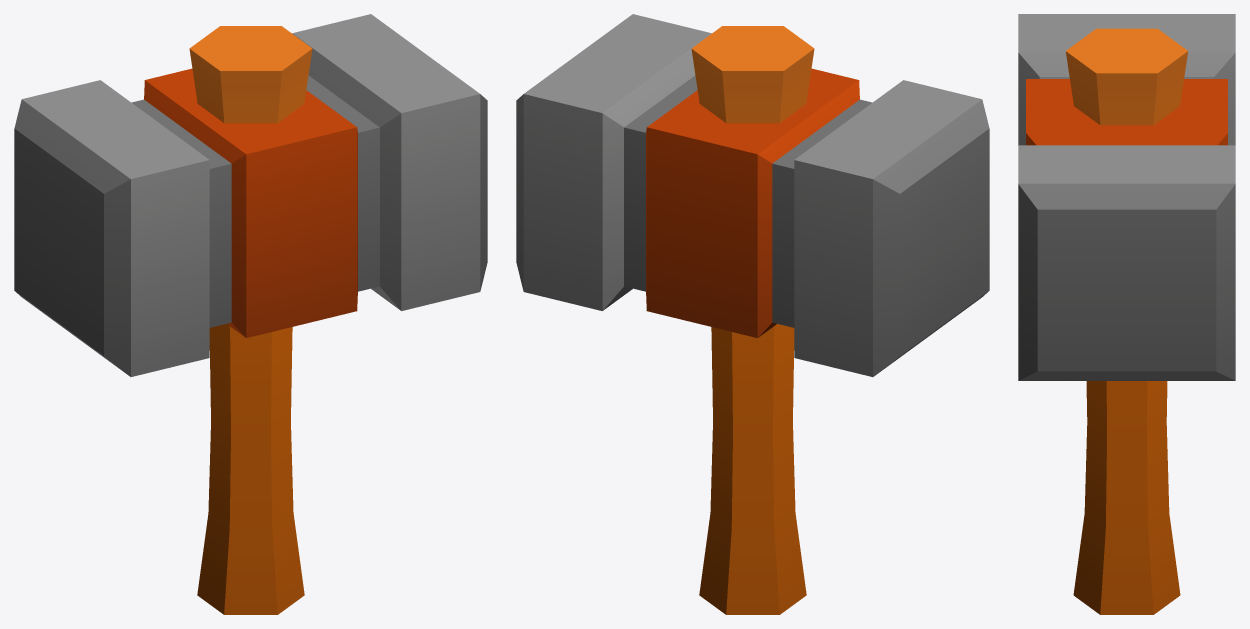
File: Weapon_Hammer_lvl01.fbx
The picture shows the model from 3 angles, left to right: view 1: azimuth 30°, elevation 25°; view 2: azimuth 150°, elevation 25°; view 3: azimuth 270°, elevation 25°; orthographic projection.
Parts seen in each view (by area): view 1: Weapon_Hammer_lvl01; view 2: Weapon_Hammer_lvl01; view 3: Weapon_Hammer_lvl01.
Part boxes in pixels (x1,y1,x2,y2): Weapon_Hammer_lvl01: [14, 14, 487, 614]; Weapon_Hammer_lvl01: [516, 14, 989, 614]; Weapon_Hammer_lvl01: [1018, 14, 1235, 614].
Bounding box in the file's own units: 104 × 142 × 51.46.
